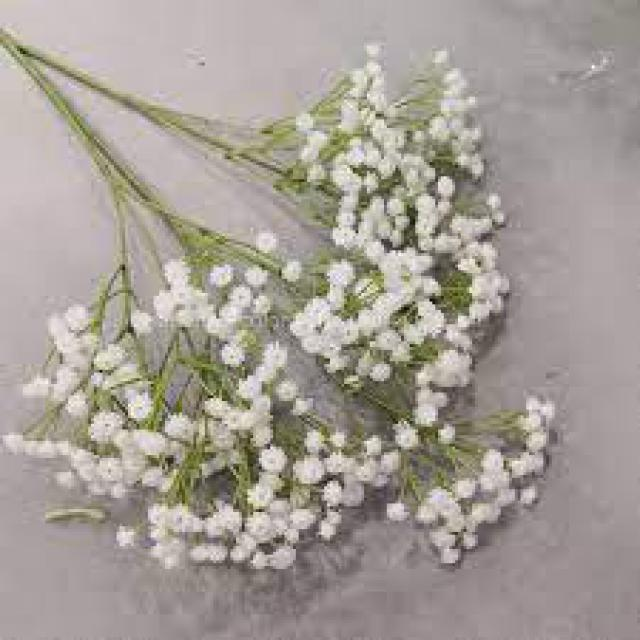gypsophila: (145, 256, 371, 589), (243, 219, 549, 420), (4, 263, 182, 535), (281, 69, 530, 249), (396, 398, 594, 566)
